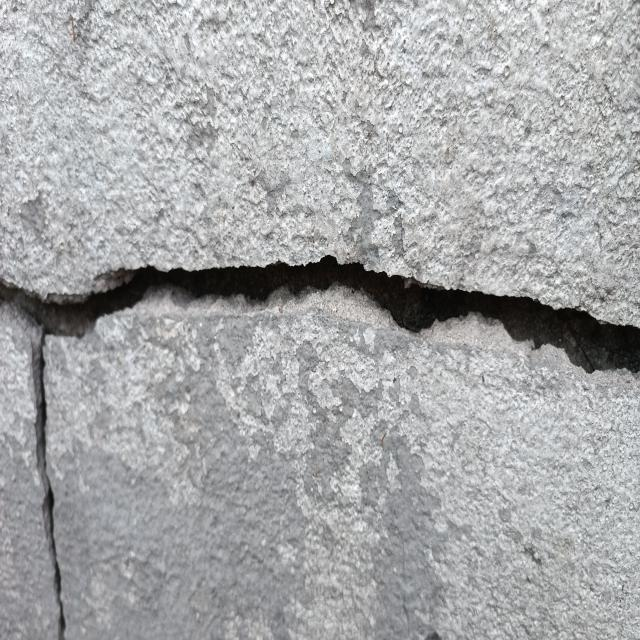branched cracks: (0, 256, 639, 639)
